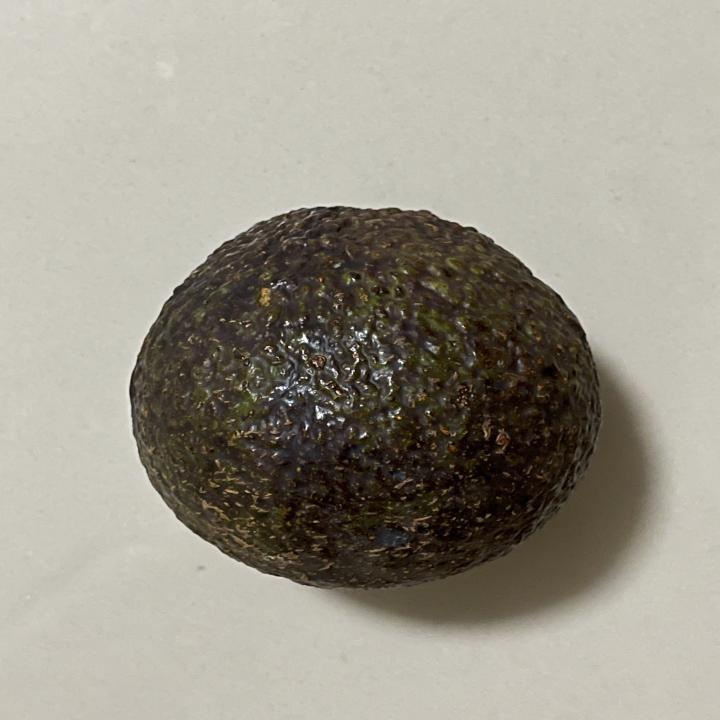Level2: (119, 195, 613, 596)
